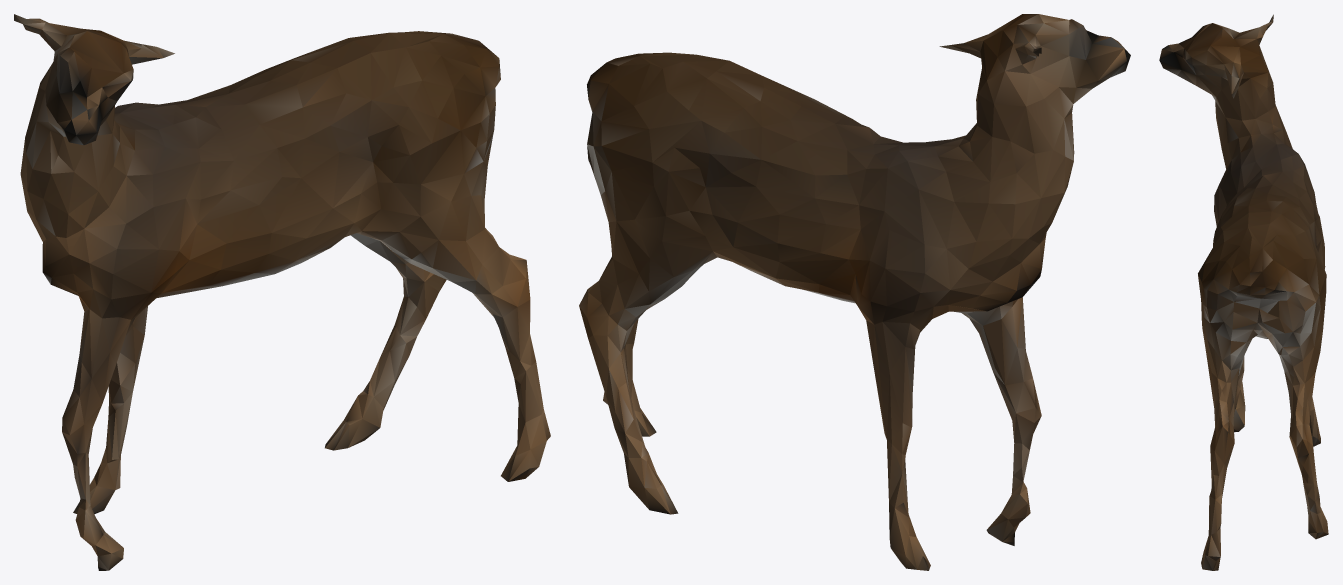
File: deer_startled.glb
The picture shows the model from 3 angles, left to right: view 1: azimuth 30°, elevation 25°; view 2: azimuth 150°, elevation 25°; view 3: azimuth 270°, elevation 25°; orthographic projection. The views are drawn at different scales.
Parts seen in each view (by area): view 1: deer_startled; view 2: deer_startled; view 3: deer_startled.
Boxes of the visible parts, x1,y1,x2,y2 form: deer_startled: (14, 14, 550, 570); deer_startled: (579, 14, 1130, 570); deer_startled: (1159, 14, 1328, 570).
Size of the model in its own units: 4.39 by 4.51 by 1.74.
